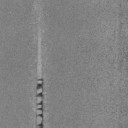slag inclusion: (36, 78, 44, 128)
